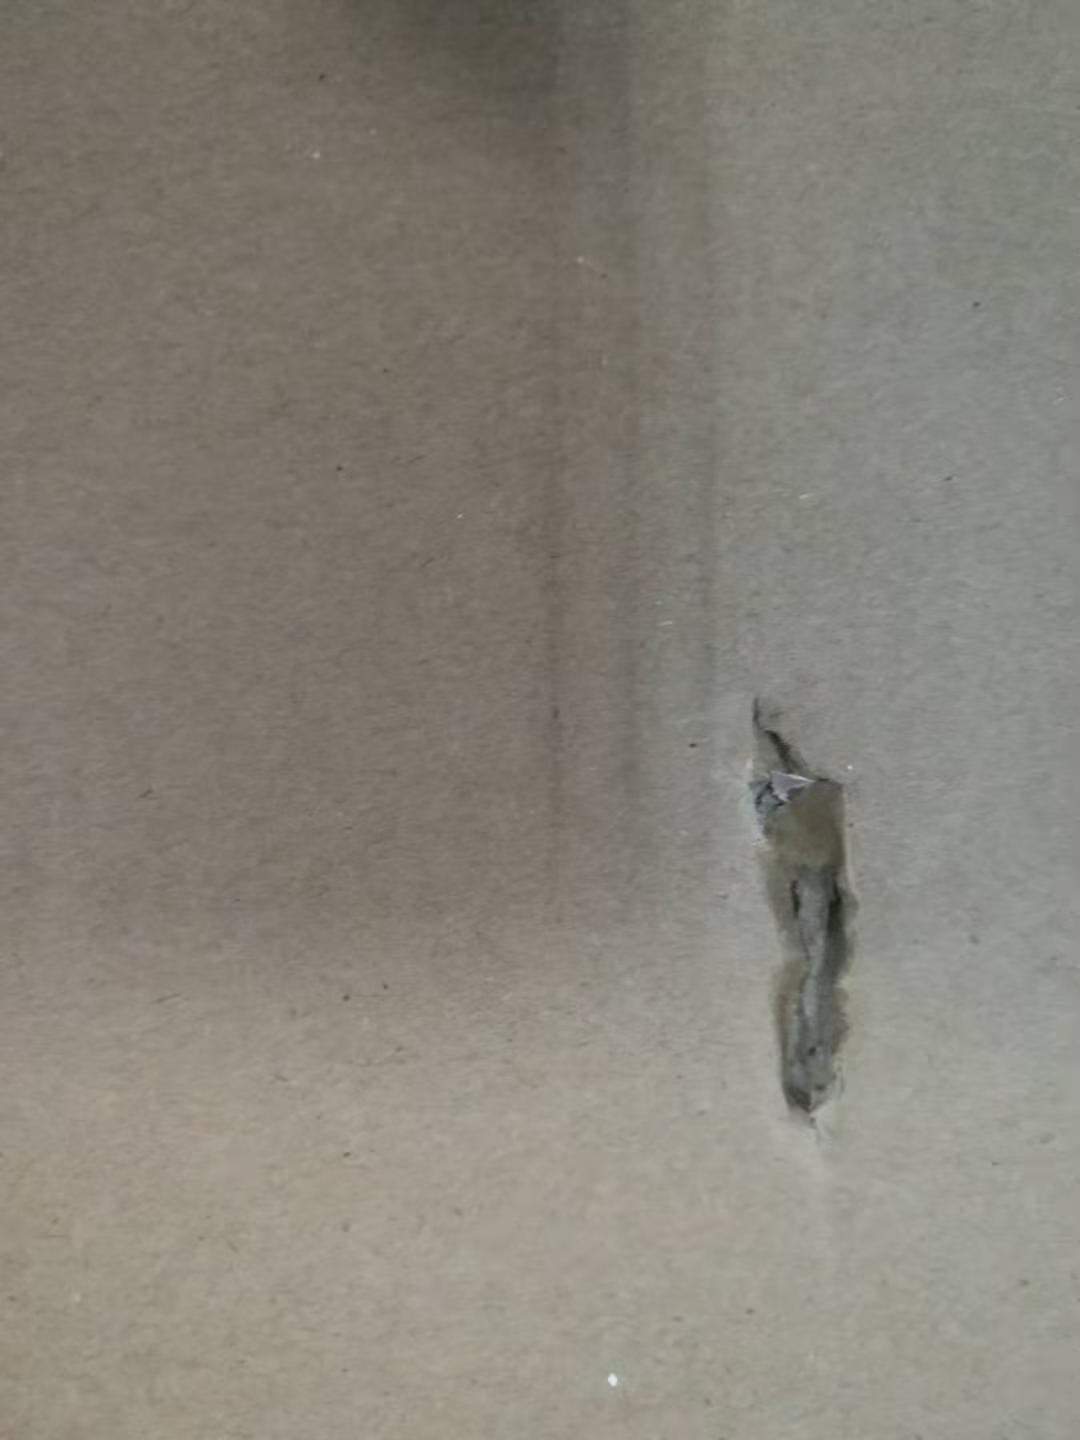defect: (497, 5, 752, 915), (695, 650, 920, 1196)
